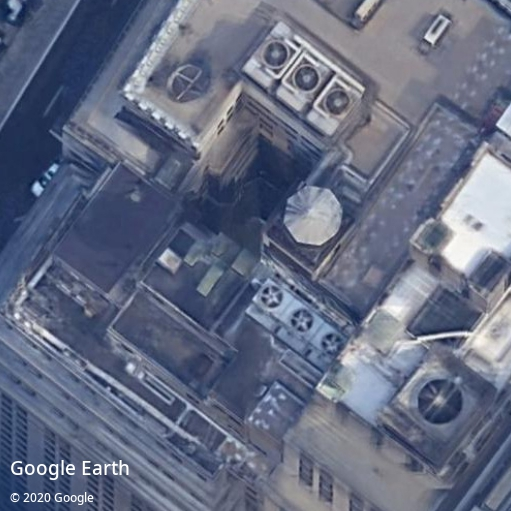Vent: (417, 379, 464, 425), (262, 41, 288, 67), (326, 89, 351, 116), (294, 65, 319, 91), (290, 309, 314, 333), (260, 285, 283, 309), (321, 332, 343, 355)
